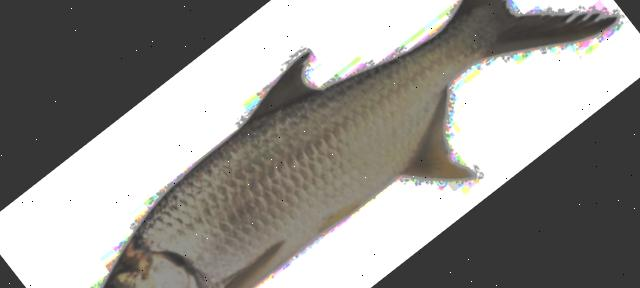Healthy Fish: (102, 0, 619, 288)
